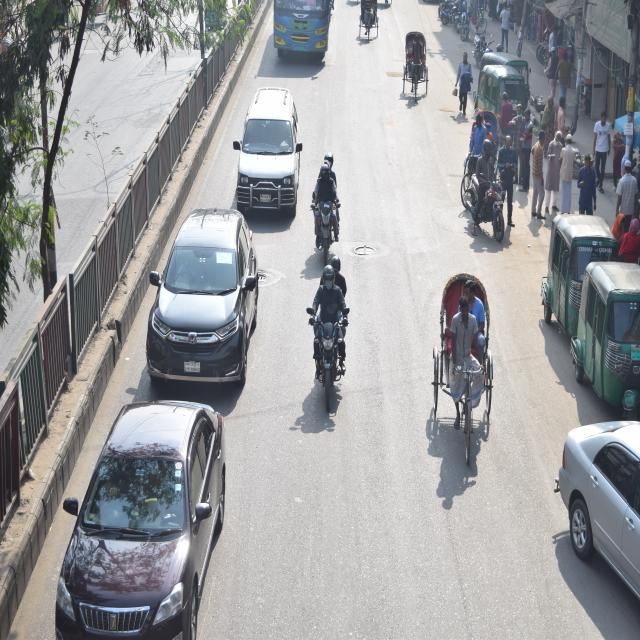bus: (265, 0, 329, 60)
car: (50, 398, 232, 640), (147, 199, 261, 387), (552, 406, 640, 608), (233, 90, 300, 208)
motorbike: (294, 274, 352, 424), (302, 176, 343, 264), (470, 166, 510, 247)
